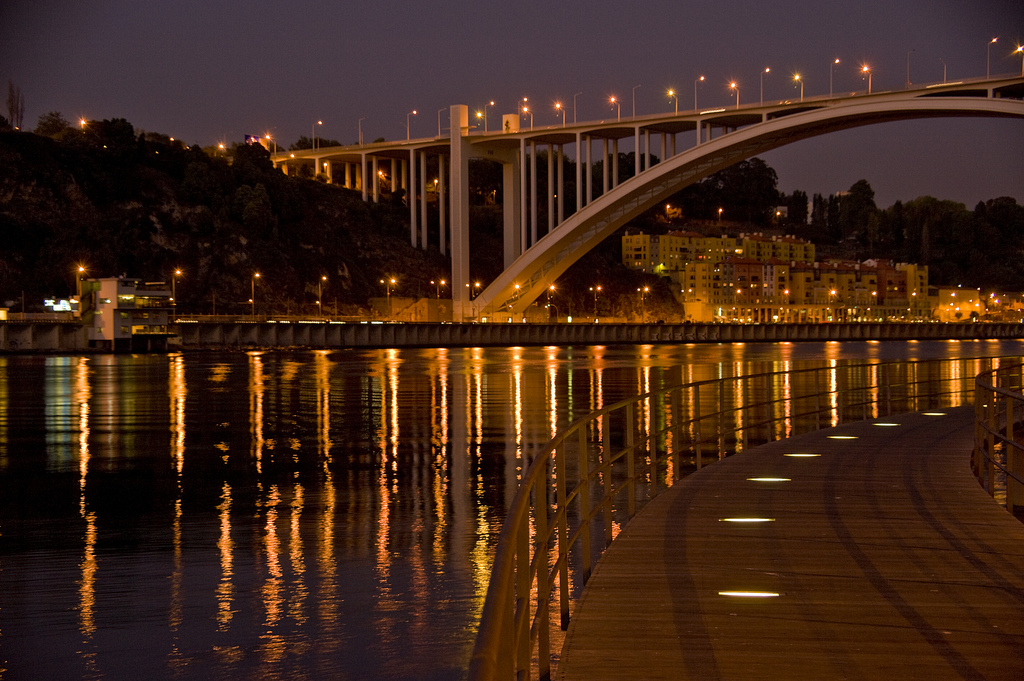arrabida: (213, 71, 1023, 324)
